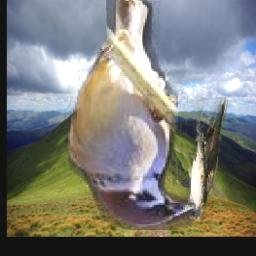Cuckoo: (181, 98, 228, 220)
Sparrow: (63, 0, 197, 231)
